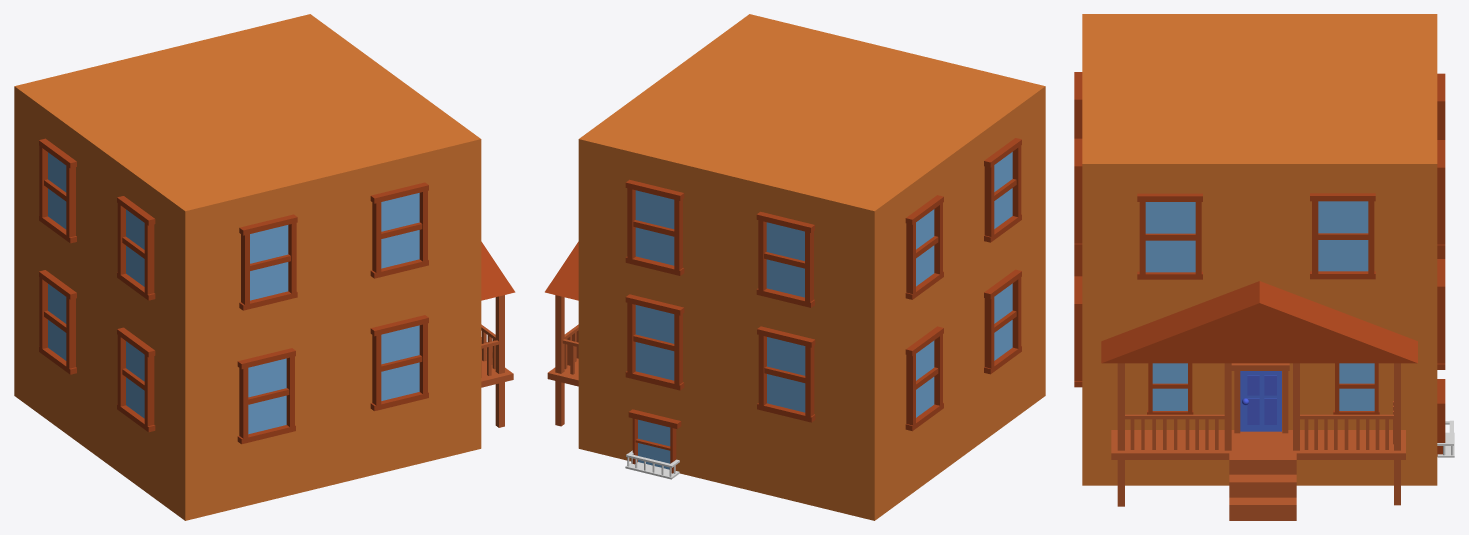
File: apartmentbase2.glb
3 renders of one model, left to right at view 1: azimuth 30°, elevation 25°; view 2: azimuth 150°, elevation 25°; view 3: azimuth 270°, elevation 25°, orthographic. The views are drawn at different scales.
Parts seen in each view (by area): view 1: Cube, Cube.037, Cube.038, Cube.031, Cube.034, Cube.036, Cube.032, Cube.035, Cube.033, Cube.046, Cube.041, Cube.044 (+7 smaller); view 2: Cube, Cube.028, Cube.022, Cube.024, Cube.027, Cube.025, Cube.021, Cube.041, Cube.046, Cube.026, Cube.023, Cube.042 (+10 smaller); view 3: Cube, Cylinder, Cube.004, Cube.002, Cube.006, Cube.015, Cube.020, Cube.078, Cube.079, Cube.075, Cube.017, Cube.077 (+19 smaller).
Part boxes in pixels (box(x1,y1,x2,y2)): Cube: box(14, 14, 481, 520); Cube.037: box(370, 315, 428, 411); Cube.038: box(237, 348, 295, 444); Cube.031: box(370, 182, 428, 278); Cube.034: box(239, 214, 297, 310); Cube.036: box(248, 358, 286, 434); Cube.032: box(381, 193, 419, 268); Cube.035: box(381, 325, 419, 400); Cube.033: box(250, 225, 288, 300); Cube.046: box(117, 327, 155, 432); Cube.041: box(117, 196, 155, 300); Cube.044: box(39, 270, 76, 374); Cube: box(578, 14, 1045, 520); Cube.028: box(757, 326, 815, 422); Cube.022: box(625, 179, 684, 275); Cube.024: box(756, 211, 814, 307); Cube.027: box(625, 294, 684, 390); Cube.025: box(635, 305, 674, 380); Cube.021: box(635, 190, 674, 265); Cube.041: box(984, 138, 1021, 242); Cube.046: box(984, 269, 1021, 374); Cube.026: box(767, 337, 805, 412); Cube.023: box(766, 222, 804, 297); Cube.042: box(905, 195, 943, 299); Cube: box(1082, 14, 1437, 485); Cylinder: box(1101, 281, 1417, 363); Cube.004: box(1111, 430, 1405, 459); Cube.002: box(1145, 202, 1195, 272); Cube.006: box(1318, 201, 1368, 271); Cube.015: box(1310, 193, 1375, 279); Cube.020: box(1137, 193, 1202, 279); Cube.078: box(1229, 474, 1296, 497); Cube.079: box(1229, 497, 1296, 520); Cube.075: box(1339, 363, 1374, 410); Cube.017: box(1152, 363, 1187, 410); Cube.077: box(1229, 452, 1296, 474).
Size of the model in its own units: 2.64 by 2 by 2.14.
